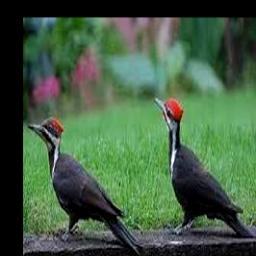Woodpecker: (27, 116, 142, 254), (153, 96, 254, 237)
